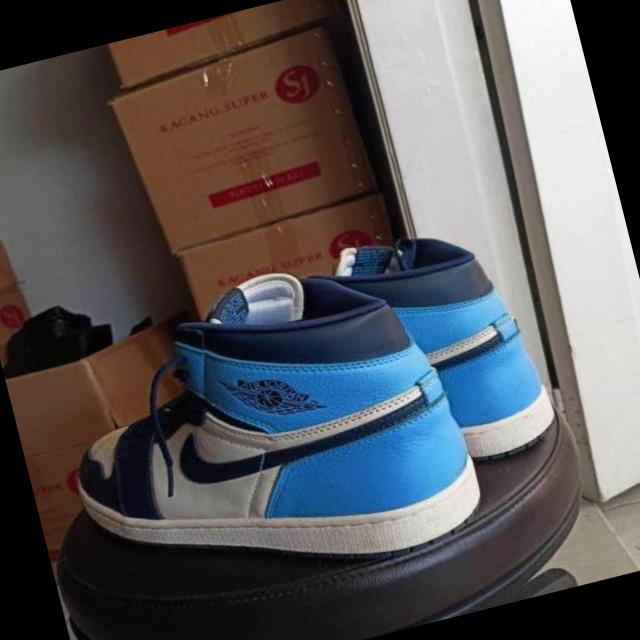nike_original_jordan: (37, 234, 500, 628), (320, 205, 578, 490)
